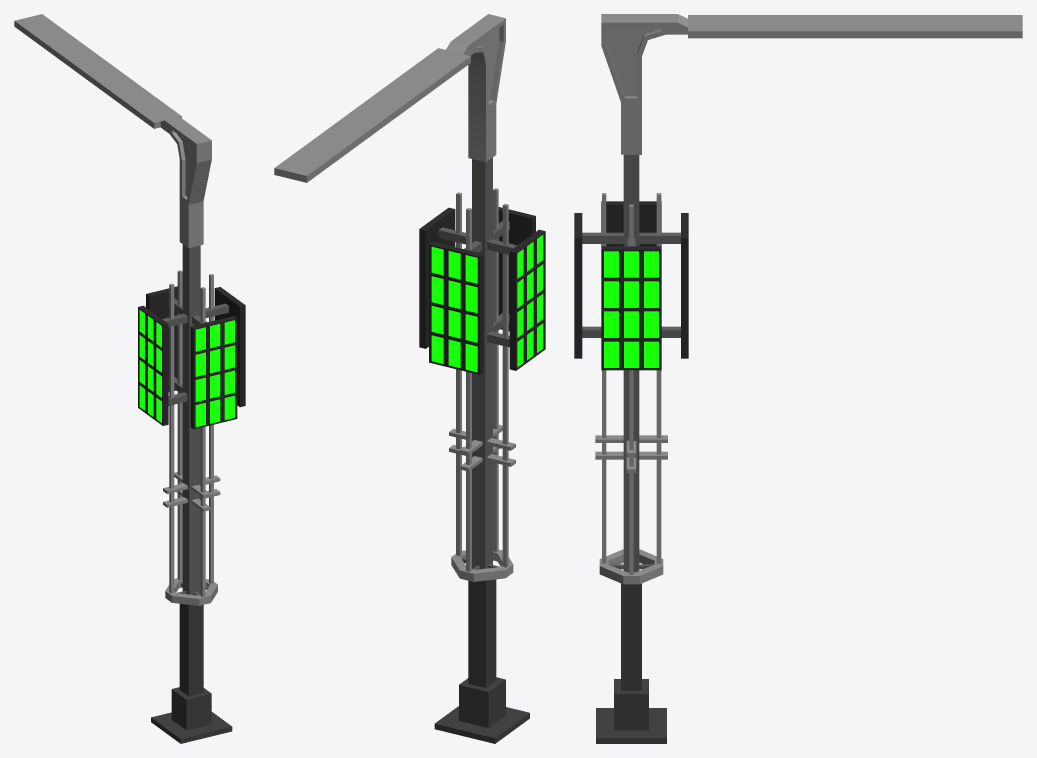
File: Street_Lamp_01.FBX
3 views of the same model, side by side, from view 1: azimuth 30°, elevation 25°; view 2: azimuth 150°, elevation 25°; view 3: azimuth 270°, elevation 25° (orthographic). The views are drawn at different scales.
Parts seen in each view (by area): view 1: Street_Lamp_01_LOD0, Street_Lamp_01_Deco_LOD0; view 2: Street_Lamp_01_LOD0, Street_Lamp_01_Deco_LOD0; view 3: Street_Lamp_01_LOD0, Street_Lamp_01_Deco_LOD0.
Part boxes in pixels (x1,y1,x2,y2): Street_Lamp_01_LOD0: (14,14,232,743); Street_Lamp_01_Deco_LOD0: (138,270,245,605); Street_Lamp_01_LOD0: (274,14,529,743); Street_Lamp_01_Deco_LOD0: (419,188,545,581); Street_Lamp_01_LOD0: (596,14,1022,743); Street_Lamp_01_Deco_LOD0: (574,193,688,584).
Size of what is drawn, in the model's own units: 42.83 by 294 by 168.
